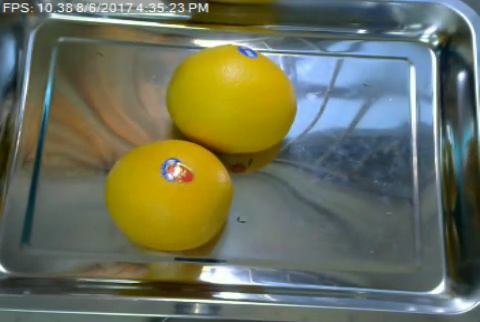Orange: (164, 44, 298, 152), (104, 140, 232, 250)
